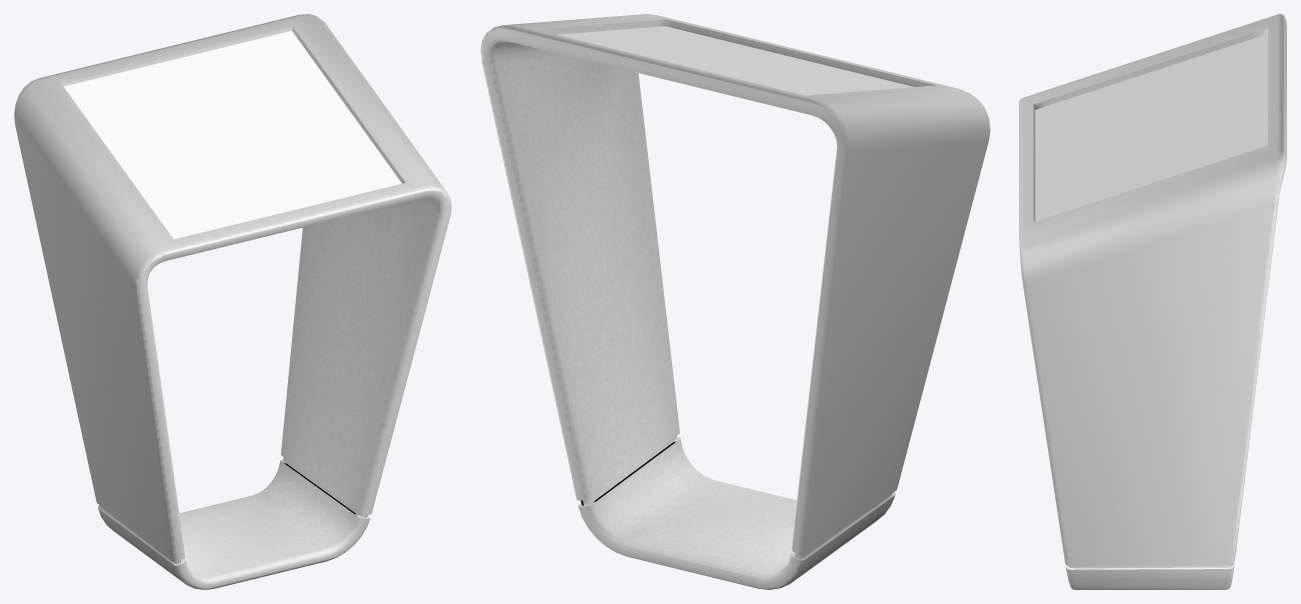
3 views of the same model, side by side, from view 1: azimuth 30°, elevation 25°; view 2: azimuth 150°, elevation 25°; view 3: azimuth 270°, elevation 25° (orthographic). The views are drawn at different scales.
Parts seen in each view (by area): view 1: Cube.001, Flat_08011740; view 2: Cube.001, Flat_08011740; view 3: Cube.001, Flat_08011740.
Boxes of the visible parts, x1,y1,x2,y2 form: Cube.001: [14, 14, 451, 589]; Flat_08011740: [64, 31, 401, 239]; Cube.001: [480, 14, 990, 589]; Flat_08011740: [556, 26, 913, 95]; Cube.001: [1019, 14, 1286, 589]; Flat_08011740: [1035, 34, 1267, 221].
Bounding box in the file's own units: 0.6382 × 0.8763 × 0.4488.
Materials: 2 (1 with a texture image).
